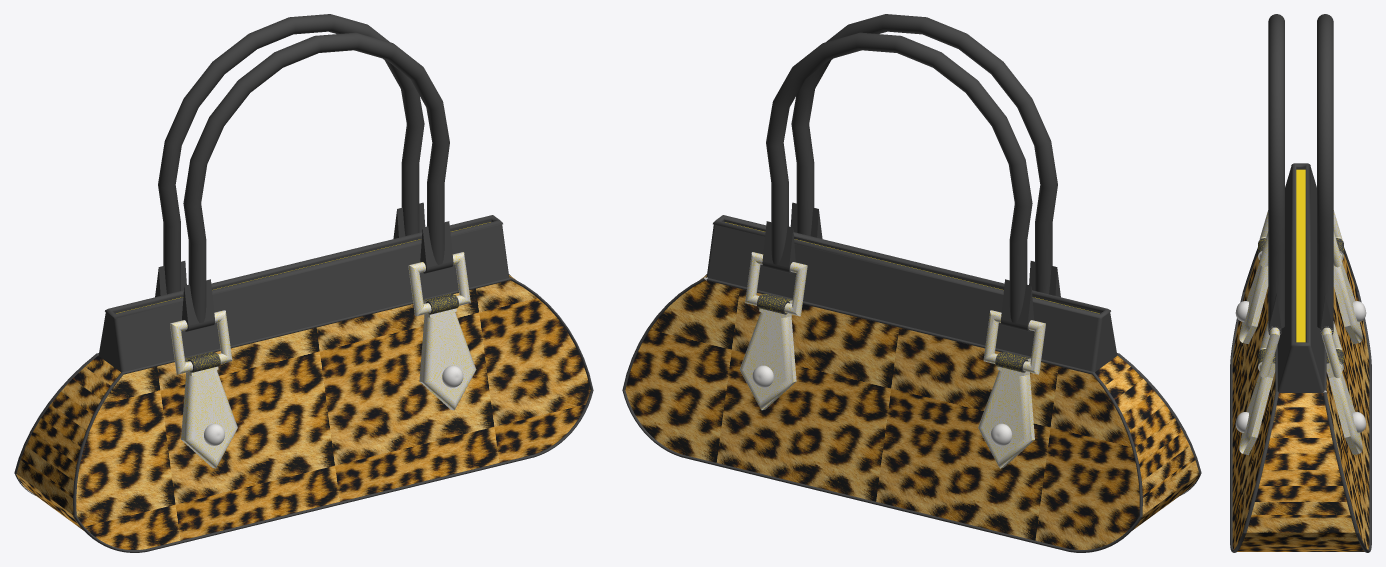
The model's file is leopard_purse.dae.
The picture shows the model from 3 angles, left to right: view 1: azimuth 30°, elevation 25°; view 2: azimuth 150°, elevation 25°; view 3: azimuth 270°, elevation 25°; orthographic projection. The views are drawn at different scales.
Parts seen in each view (by area): view 1: SketchUp (×14); view 2: SketchUp (×14); view 3: SketchUp (×25).
Part boxes in pixels (x1=…): SketchUp (×14): x1=16, y1=14, x2=593, y2=552; SketchUp (×14): x1=622, y1=14, x2=1199, y2=552; SketchUp (×25): x1=1230, y1=14, x2=1371, y2=552.
Size of the model in its own units: 295 by 73.11 by 245.
Materials: 5 (1 with a texture image).
